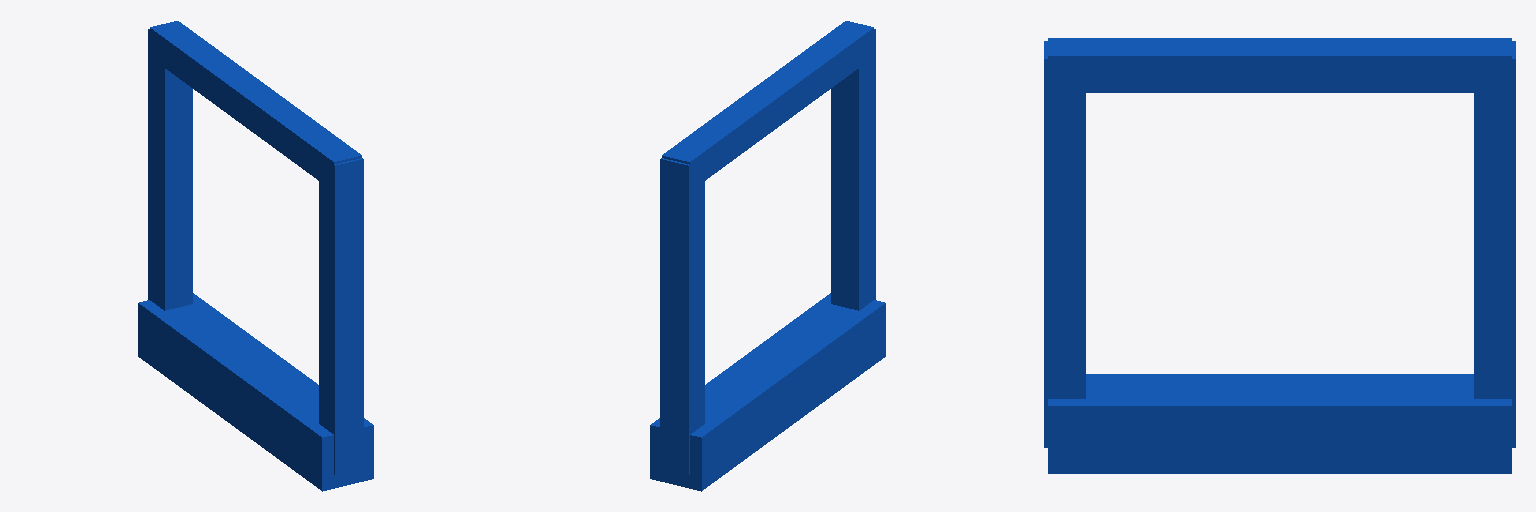
URDF robot description (gate_scale_046):
<?xml version="1.0" ?>
<robot name="gate_scale_046">
  <material name="gate_material">
    <color rgba="0.1 0.4 0.8 1.0"/>
  </material>
  <link name="base_link"/>
  <link name="left_post">
    <visual>
      <origin xyz="0.000 0.000 0.575" rpy="0 0 0"/>
      <geometry>
        <box size="0.110 0.110 1.150"/>
      </geometry>
      <material name="gate_material"/>
    </visual>
    <collision>
      <origin xyz="0.000 0.000 0.575" rpy="0 0 0"/>
      <geometry>
        <box size="0.110 0.110 1.150"/>
      </geometry>
    </collision>
    <inertial>
      <mass value="10.000"/>
      <inertia ixx="2.0" ixy="0.0" ixz="0.0" iyy="2.0" iyz="0.0" izz="2.0"/>
    </inertial>
  </link>
  <joint name="base_to_left_post" type="fixed">
    <parent link="base_link"/>
    <child link="left_post"/>
    <origin xyz="0.000 0.575 0.000" rpy="0 0 0"/>
  </joint>
  <link name="right_post">
    <visual>
      <origin xyz="0.000 0.000 0.575" rpy="0 0 0"/>
      <geometry>
        <box size="0.110 0.110 1.150"/>
      </geometry>
      <material name="gate_material"/>
    </visual>
    <collision>
      <origin xyz="0.000 0.000 0.575" rpy="0 0 0"/>
      <geometry>
        <box size="0.110 0.110 1.150"/>
      </geometry>
    </collision>
    <inertial>
      <mass value="10.000"/>
      <inertia ixx="2.0" ixy="0.0" ixz="0.0" iyy="2.0" iyz="0.0" izz="2.0"/>
    </inertial>
  </link>
  <joint name="base_to_right_post" type="fixed">
    <parent link="base_link"/>
    <child link="right_post"/>
    <origin xyz="0.000 -0.575 0.000" rpy="0 0 0"/>
  </joint>
  <link name="top_bar">
    <visual>
      <origin xyz="0.000 0.000 0.000" rpy="0 0 0"/>
      <geometry>
        <box size="0.110 1.242 0.110"/>
      </geometry>
      <material name="gate_material"/>
    </visual>
    <collision>
      <origin xyz="0.000 0.000 0.000" rpy="0 0 0"/>
      <geometry>
        <box size="0.110 1.242 0.110"/>
      </geometry>
    </collision>
    <inertial>
      <mass value="10.000"/>
      <inertia ixx="2.0" ixy="0.0" ixz="0.0" iyy="2.0" iyz="0.0" izz="2.0"/>
    </inertial>
  </link>
  <joint name="base_to_top_bar" type="fixed">
    <parent link="base_link"/>
    <child link="top_bar"/>
    <origin xyz="0.000 0.000 1.104" rpy="0 0 0"/>
  </joint>
  <link name="bottom_bar">
    <visual>
      <origin xyz="0.000 0.000 0.000" rpy="0 0 0"/>
      <geometry>
        <box size="0.200 1.242 0.200"/>
      </geometry>
      <material name="gate_material"/>
    </visual>
    <collision>
      <origin xyz="0.000 0.000 0.000" rpy="0 0 0"/>
      <geometry>
        <box size="0.200 1.242 0.200"/>
      </geometry>
    </collision>
    <inertial>
      <mass value="10.000"/>
      <inertia ixx="2.0" ixy="0.0" ixz="0.0" iyy="2.0" iyz="0.0" izz="2.0"/>
    </inertial>
  </link>
  <joint name="base_to_bottom_bar" type="fixed">
    <parent link="base_link"/>
    <child link="bottom_bar"/>
    <origin xyz="0.000 0.000 0.046" rpy="0 0 0"/>
  </joint>
</robot> 

--- Facts derived from the render (not from the file) ---
The picture shows the robot from 3 angles, left to right: view 1: azimuth 30°, elevation 25°; view 2: azimuth 150°, elevation 25°; view 3: azimuth 270°, elevation 25°; orthographic projection.
Model gate_scale_046 with 5 links and 4 joints (4 fixed), rooted at base_link, posed all joints at 0.
Links seen in each view (by area): view 1: bottom_bar, right_post, left_post, top_bar; view 2: bottom_bar, left_post, right_post, top_bar; view 3: bottom_bar, top_bar, right_post, left_post.
Boxes of the visible links, bbox=[...] form: bottom_bar: bbox=[138, 293, 373, 491]; right_post: bbox=[319, 155, 363, 474]; left_post: bbox=[148, 29, 192, 310]; top_bar: bbox=[150, 21, 361, 191]; bottom_bar: bbox=[650, 293, 885, 491]; left_post: bbox=[660, 154, 704, 474]; right_post: bbox=[831, 29, 875, 310]; top_bar: bbox=[662, 21, 873, 191]; bottom_bar: bbox=[1048, 374, 1511, 473]; top_bar: bbox=[1048, 38, 1511, 92]; right_post: bbox=[1044, 41, 1085, 447]; left_post: bbox=[1474, 41, 1515, 447].
Bounding box of the posed robot: 0.2 × 1.26 × 1.21 m (x, y, z).
Geometry: primitives only (box / cylinder / sphere), no mesh files.
